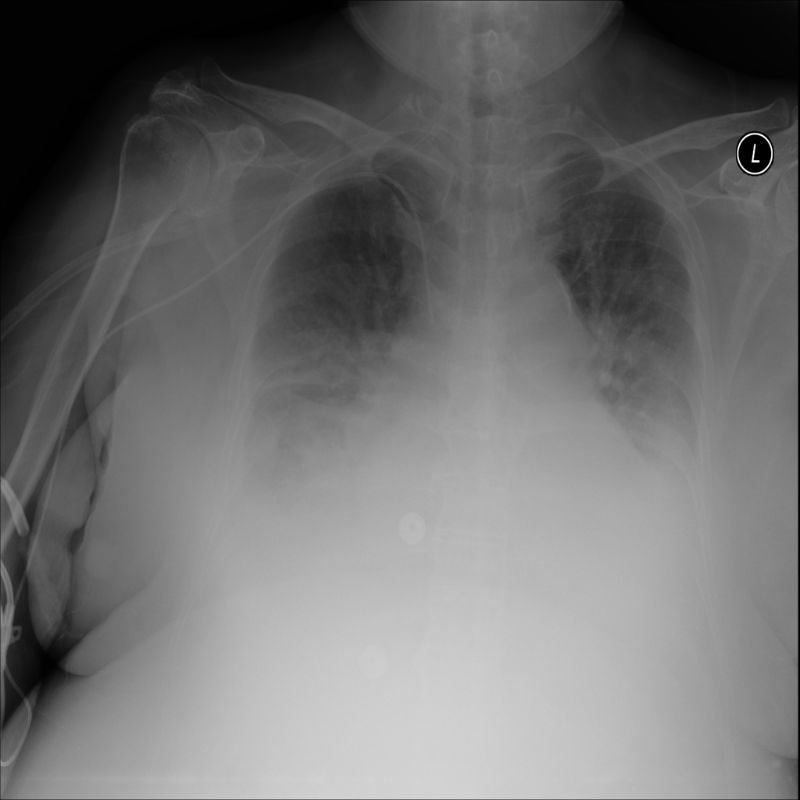PLEURAL EFFUSION: (212, 432, 331, 553), (640, 445, 706, 580)
